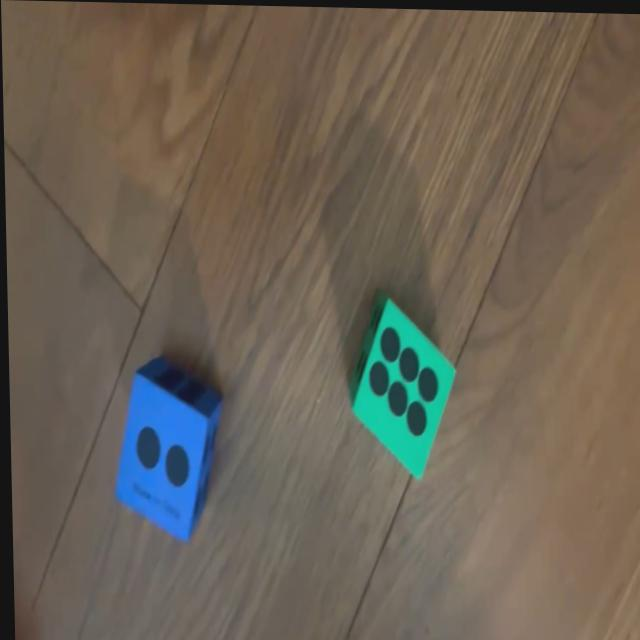blue_block: (109, 350, 222, 544)
